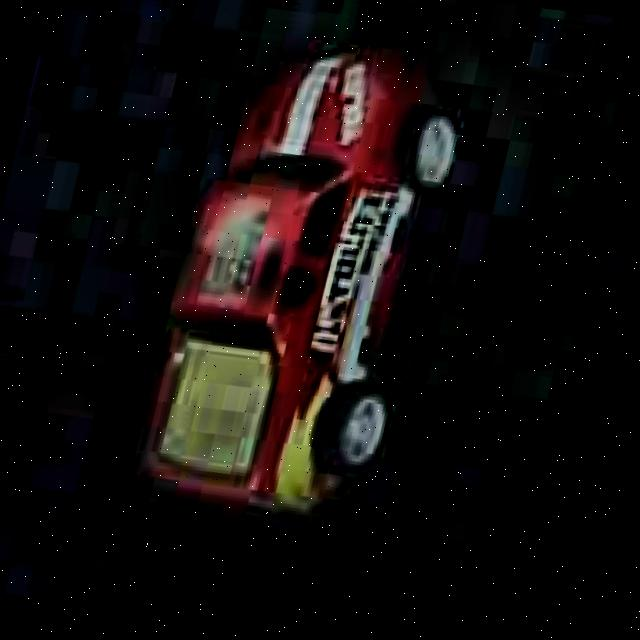car: (107, 5, 502, 550)
